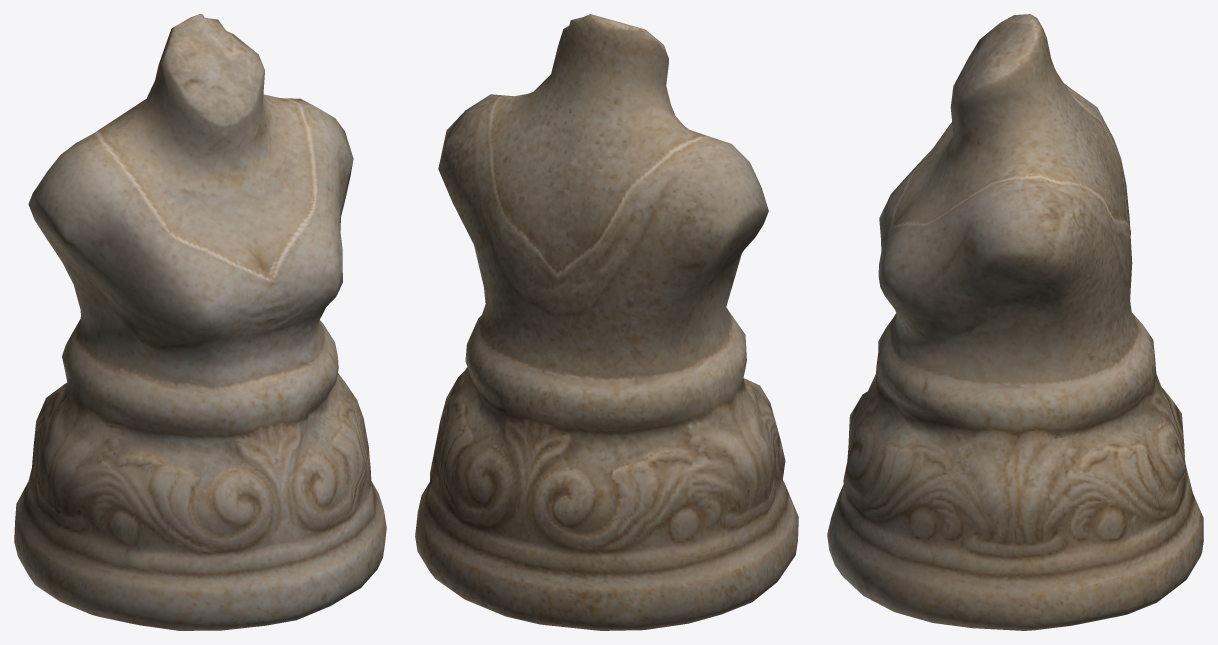
File: NPC_Body_00.fbx
3 renders of one model, left to right at view 1: azimuth 30°, elevation 25°; view 2: azimuth 150°, elevation 25°; view 3: azimuth 270°, elevation 25°, orthographic. The views are drawn at different scales.
Parts seen in each view (by area): view 1: NPC_Body_00; view 2: NPC_Body_00; view 3: NPC_Body_00.
Part boxes in pixels (x1,y1,x2,y2): NPC_Body_00: [14, 14, 386, 630]; NPC_Body_00: [415, 14, 798, 630]; NPC_Body_00: [827, 14, 1203, 630].
Size of the model in its own units: 62.37 by 99.42 by 62.4.
